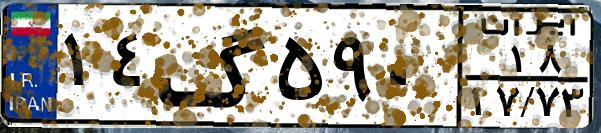0: (385, 28, 445, 110)
1: (57, 26, 110, 100), (508, 27, 537, 80), (470, 70, 495, 125)
3: (560, 70, 590, 125)
4: (110, 28, 156, 98)
5: (270, 28, 330, 110)
7: (495, 70, 520, 125), (535, 70, 560, 125)
8: (537, 27, 568, 80)
9: (330, 28, 385, 110)
گ: (156, 12, 270, 120)
